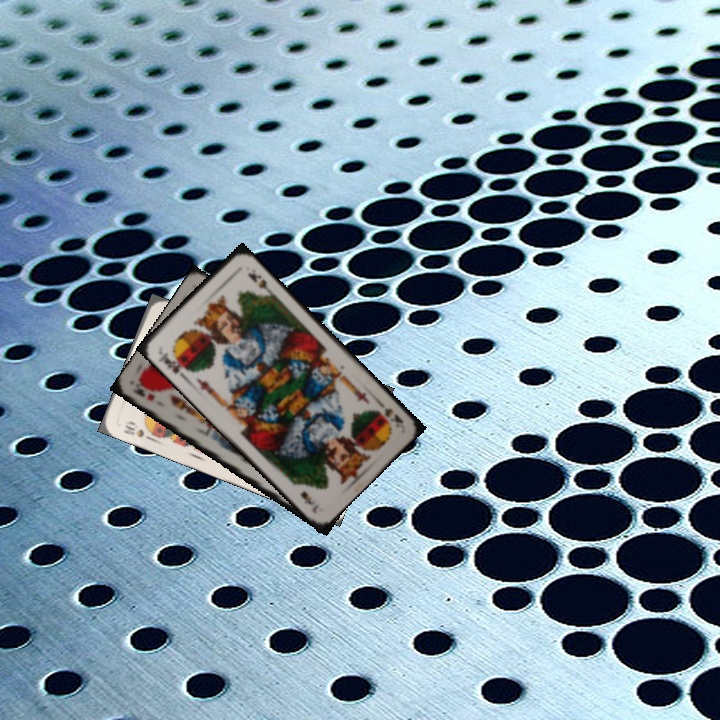HK: (128, 384, 158, 403)
S10: (119, 421, 154, 443)
SK: (154, 345, 191, 377), (381, 404, 406, 430)
